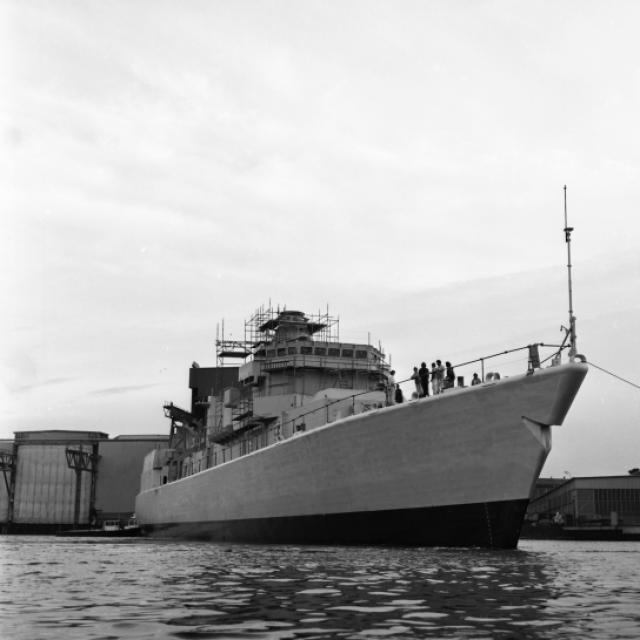Fragata: (131, 165, 592, 549)
